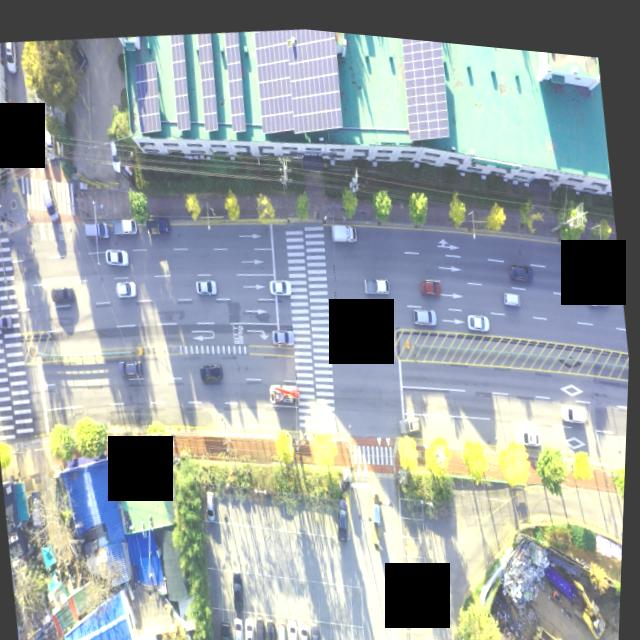car: (38, 176, 63, 223), (335, 489, 357, 537), (232, 564, 252, 609), (67, 35, 88, 72), (83, 215, 111, 242), (117, 351, 145, 378), (585, 275, 614, 298), (562, 390, 589, 414), (413, 296, 440, 319), (255, 608, 274, 640), (1, 40, 19, 73), (201, 356, 226, 379), (518, 416, 543, 439), (108, 134, 123, 172), (268, 270, 292, 293), (51, 282, 77, 303), (234, 610, 252, 640), (266, 610, 284, 640), (309, 612, 328, 640), (420, 266, 443, 289), (246, 609, 263, 640), (271, 319, 296, 340), (107, 244, 132, 265), (400, 406, 425, 427), (221, 613, 240, 640), (206, 483, 221, 517), (467, 301, 491, 322), (195, 272, 218, 293), (279, 611, 295, 640), (509, 252, 532, 272), (289, 613, 305, 640), (117, 277, 139, 296), (0, 311, 15, 333), (503, 280, 521, 298), (301, 617, 315, 640), (269, 614, 281, 640)
medium_truck: (525, 602, 584, 640)
small_truck: (5, 116, 27, 163), (270, 374, 305, 400), (329, 212, 359, 240), (144, 208, 174, 235), (363, 266, 393, 291), (111, 212, 140, 236)
